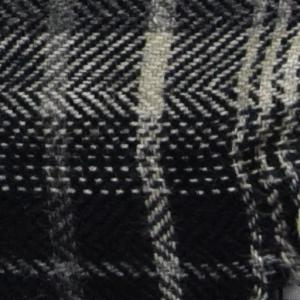Damage: (223, 86, 300, 300)
